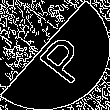P_NW: (22, 25, 88, 85)
